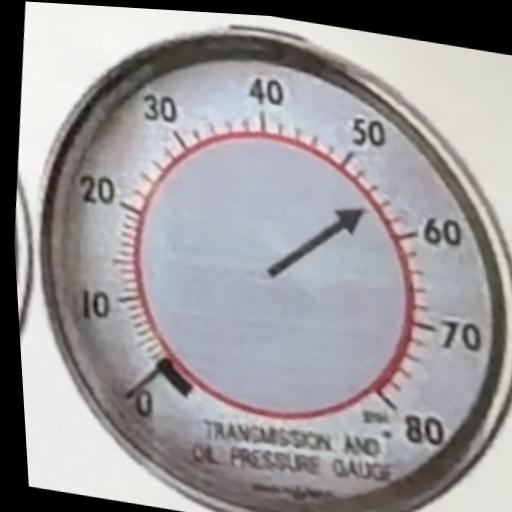needle: (246, 190, 382, 299)
